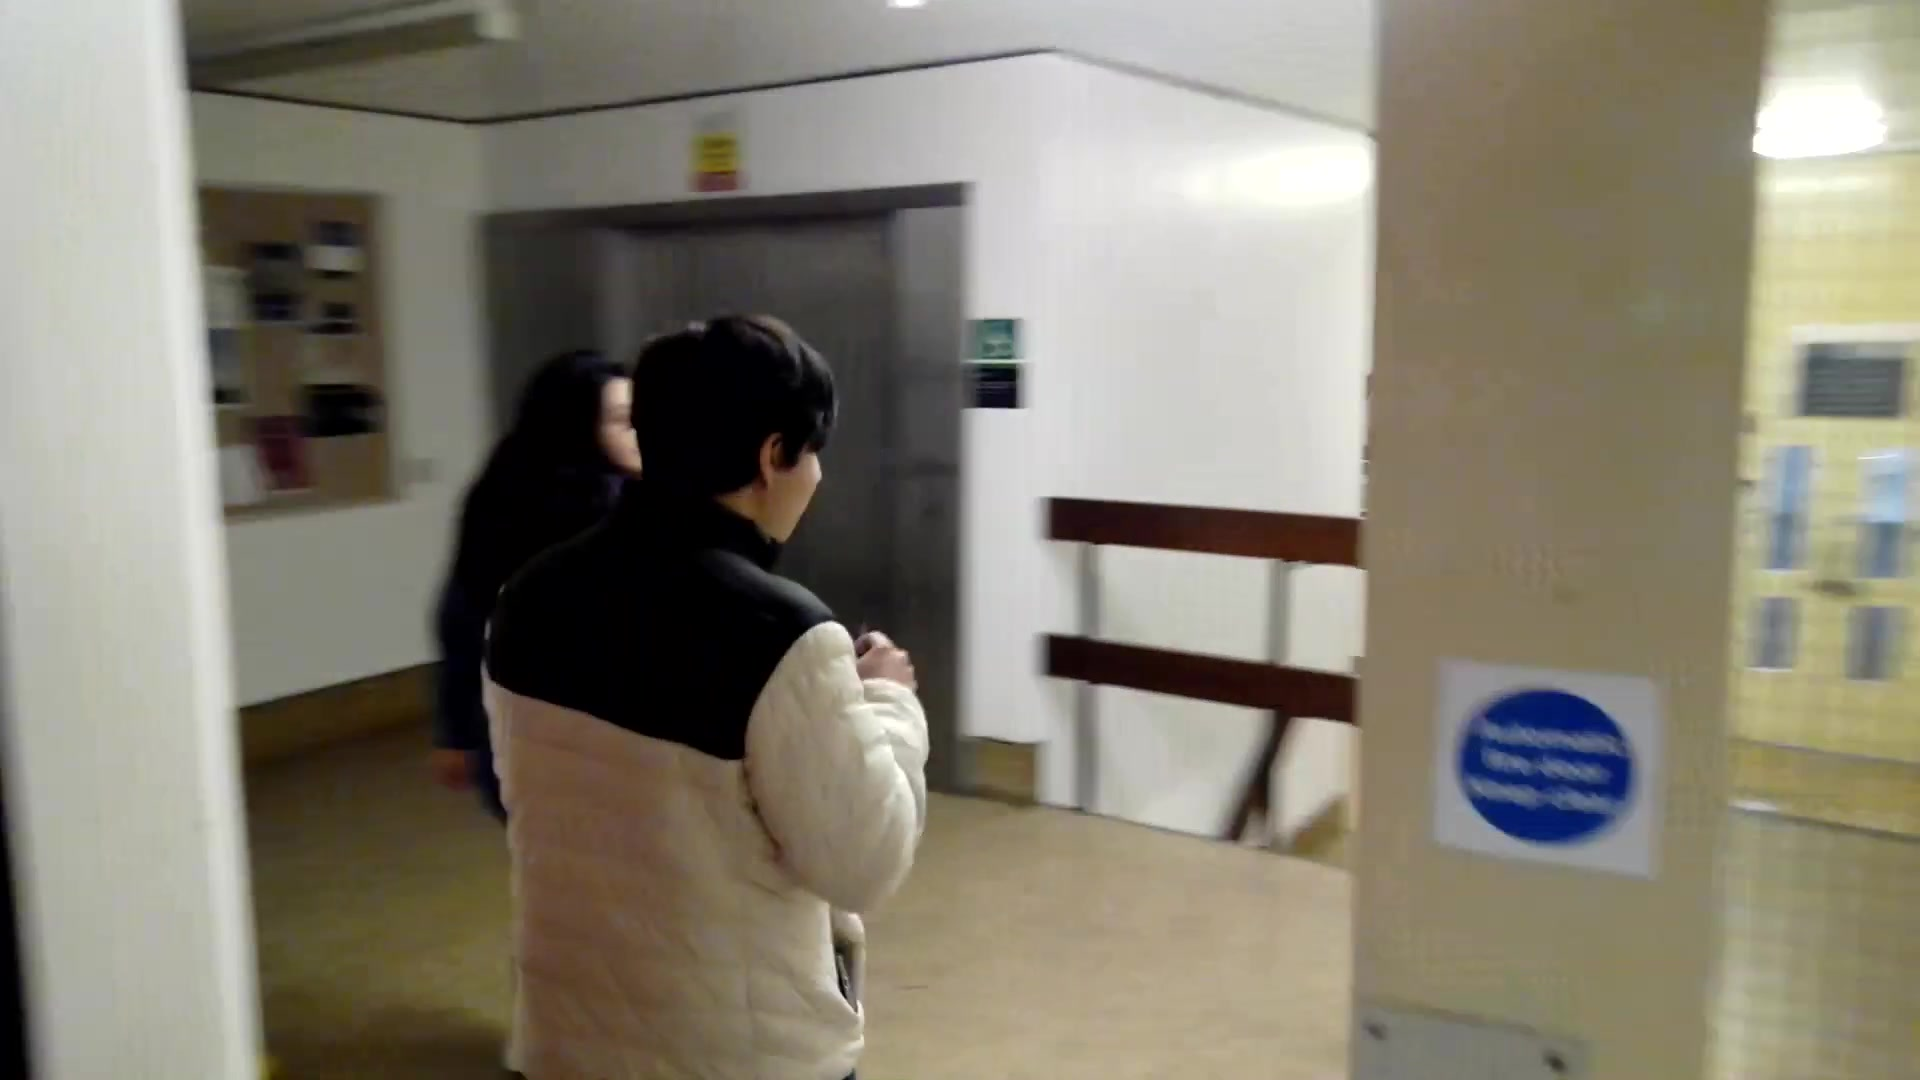Person: (634, 318, 912, 1080)
